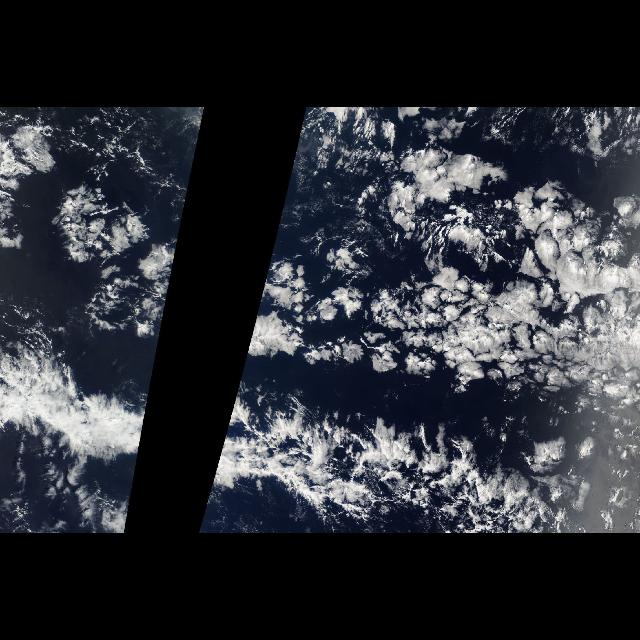Fish: (199, 302, 617, 530), (2, 302, 168, 530)
